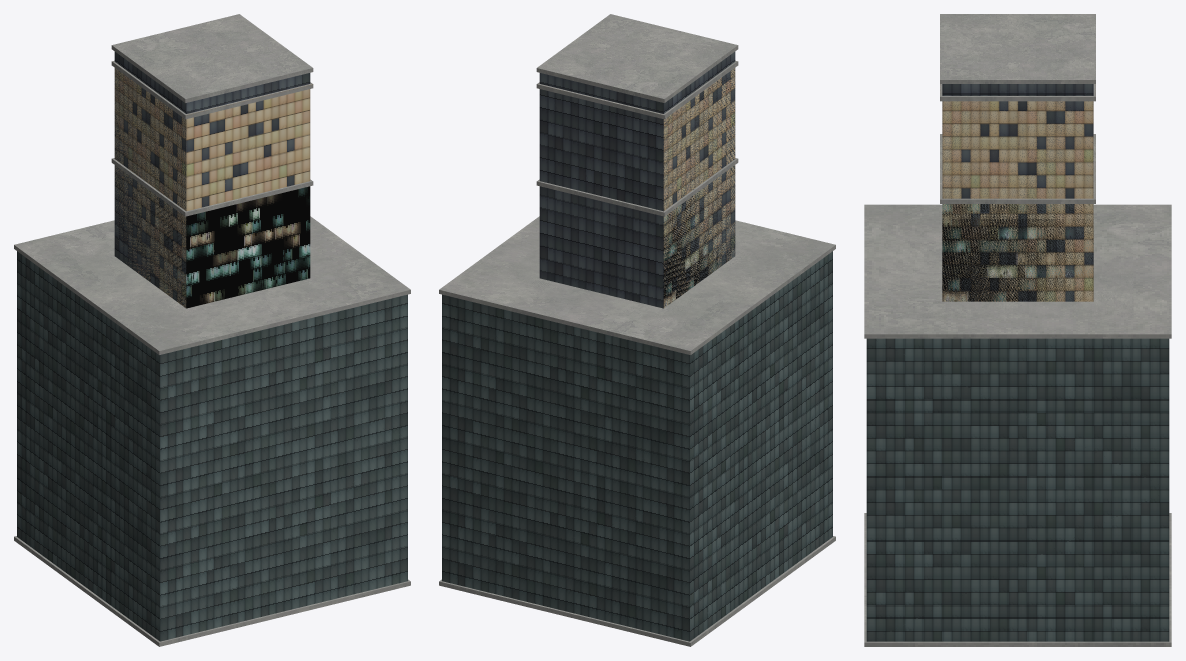
The model's file is skyscrapers.glb.
The picture shows the model from 3 angles, left to right: view 1: azimuth 30°, elevation 25°; view 2: azimuth 150°, elevation 25°; view 3: azimuth 270°, elevation 25°; orthographic projection. The views are drawn at different scales.
Visible parts, largest first — view 1: building_08.1, building_07.1, building_04.1, building_02.1, building_01.3, building_05.1; view 2: building_08.1, building_04.1, building_07.1, building_01.3, building_02.1, building_05.1; view 3: building_08.1, building_07.1, building_04.1, building_02.1, building_01.3.
Boxes of the visible parts, box(x1,y1,x2,y2) form: building_08.1: box(14, 216, 410, 646); building_07.1: box(112, 61, 313, 307); building_04.1: box(111, 14, 313, 307); building_02.1: box(111, 158, 313, 308); building_01.3: box(63, 238, 357, 329); building_05.1: box(111, 61, 312, 118); building_08.1: box(439, 216, 835, 646); building_04.1: box(536, 14, 738, 308); building_07.1: box(536, 61, 737, 305); building_01.3: box(491, 238, 786, 329); building_02.1: box(536, 158, 738, 307); building_05.1: box(537, 60, 738, 118); building_08.1: box(864, 204, 1171, 646); building_07.1: box(940, 84, 1095, 301); building_04.1: box(940, 14, 1095, 301); building_02.1: box(940, 134, 1095, 301); building_01.3: box(902, 226, 1133, 318).
Bounding box in the file's own units: 65 × 125 × 65.
8 materials, 8 textured.
